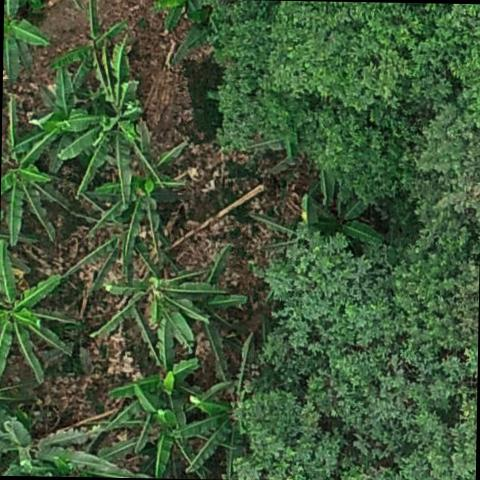Banana-plant: (66, 52, 160, 190), (0, 256, 81, 390), (103, 250, 207, 352), (98, 152, 190, 262), (0, 117, 70, 250), (110, 330, 207, 422), (186, 364, 253, 473), (118, 404, 205, 474), (54, 2, 122, 85), (3, 0, 49, 76)
